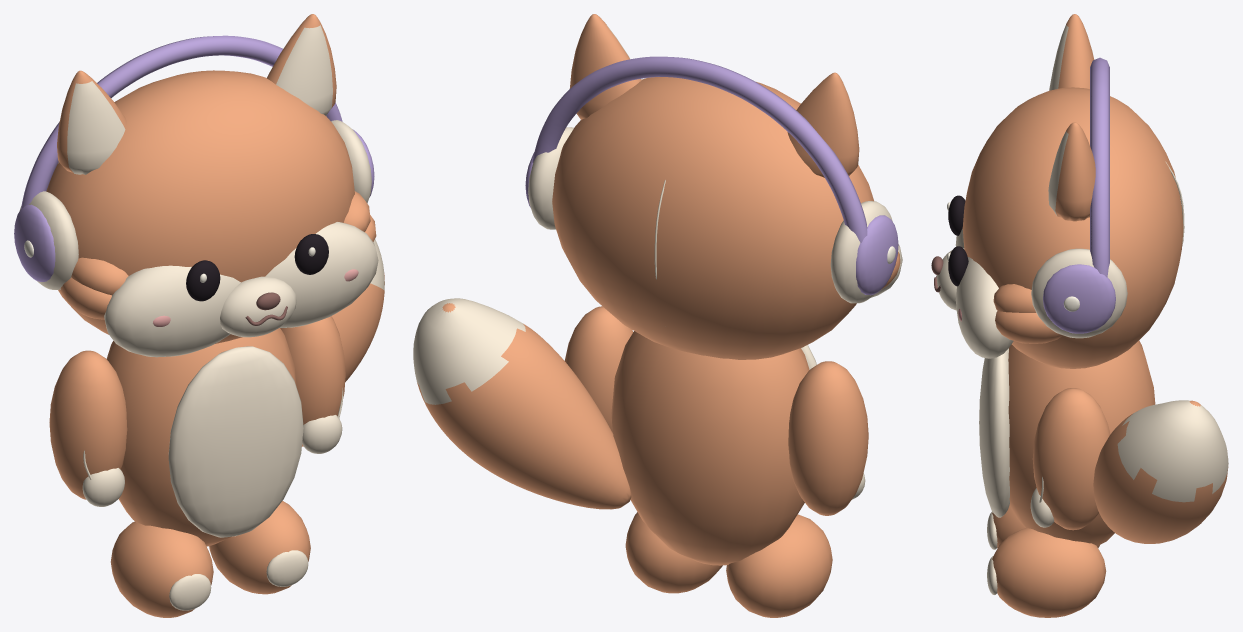
Rendered from peach-fox.glb.
The picture shows the model from 3 angles, left to right: view 1: azimuth 30°, elevation 25°; view 2: azimuth 150°, elevation 25°; view 3: azimuth 270°, elevation 25°; orthographic projection. The views are drawn at different scales.
Parts seen in each view (by area): view 1: HeadSurface, BodySurface, LeftArmSurface, LeftFootSurface, RightArmSurface, RightFootSurface, Swept tail, LeftEyeSurface, RightEyeSurface; view 2: HeadSurface, BodySurface, Swept tail, LeftArmSurface, LeftFootSurface, RightArmSurface, RightFootSurface; view 3: HeadSurface, Swept tail, BodySurface, RightArmSurface, RightFootSurface, LeftFootSurface, RightEyeSurface, LeftEyeSurface.
Part boxes in pixels (<box>): HeadSurface: <box>14,14,378,357</box>; BodySurface: <box>106,328,303,546</box>; LeftArmSurface: <box>49,350,127,506</box>; LeftFootSurface: <box>110,521,213,617</box>; RightArmSurface: <box>280,316,345,453</box>; RightFootSurface: <box>209,501,310,594</box>; Swept tail: <box>331,239,384,381</box>; LeftEyeSurface: <box>186,260,220,301</box>; RightEyeSurface: <box>294,234,328,274</box>; HeadSurface: <box>525,14,902,359</box>; BodySurface: <box>611,331,816,565</box>; Swept tail: <box>413,298,631,509</box>; LeftArmSurface: <box>788,361,868,515</box>; LeftFootSurface: <box>726,514,832,617</box>; RightArmSurface: <box>564,306,633,432</box>; RightFootSurface: <box>625,512,722,593</box>; HeadSurface: <box>931,14,1184,368</box>; Swept tail: <box>1093,400,1228,543</box>; BodySurface: <box>979,340,1155,545</box>; RightArmSurface: <box>1030,388,1110,530</box>; RightFootSurface: <box>987,527,1106,617</box>; LeftFootSurface: <box>987,505,1099,549</box>; RightEyeSurface: <box>947,246,968,286</box>; LeftEyeSurface: <box>947,195,965,235</box>.
Size of the model in its own units: 1.41 by 1.83 by 0.9414.
